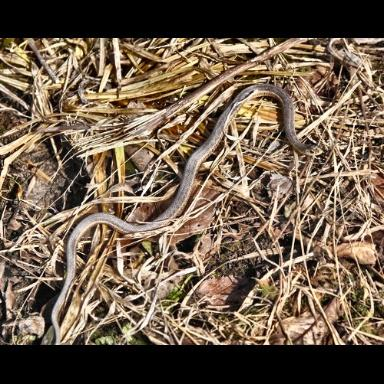snake: (50, 83, 314, 344)
